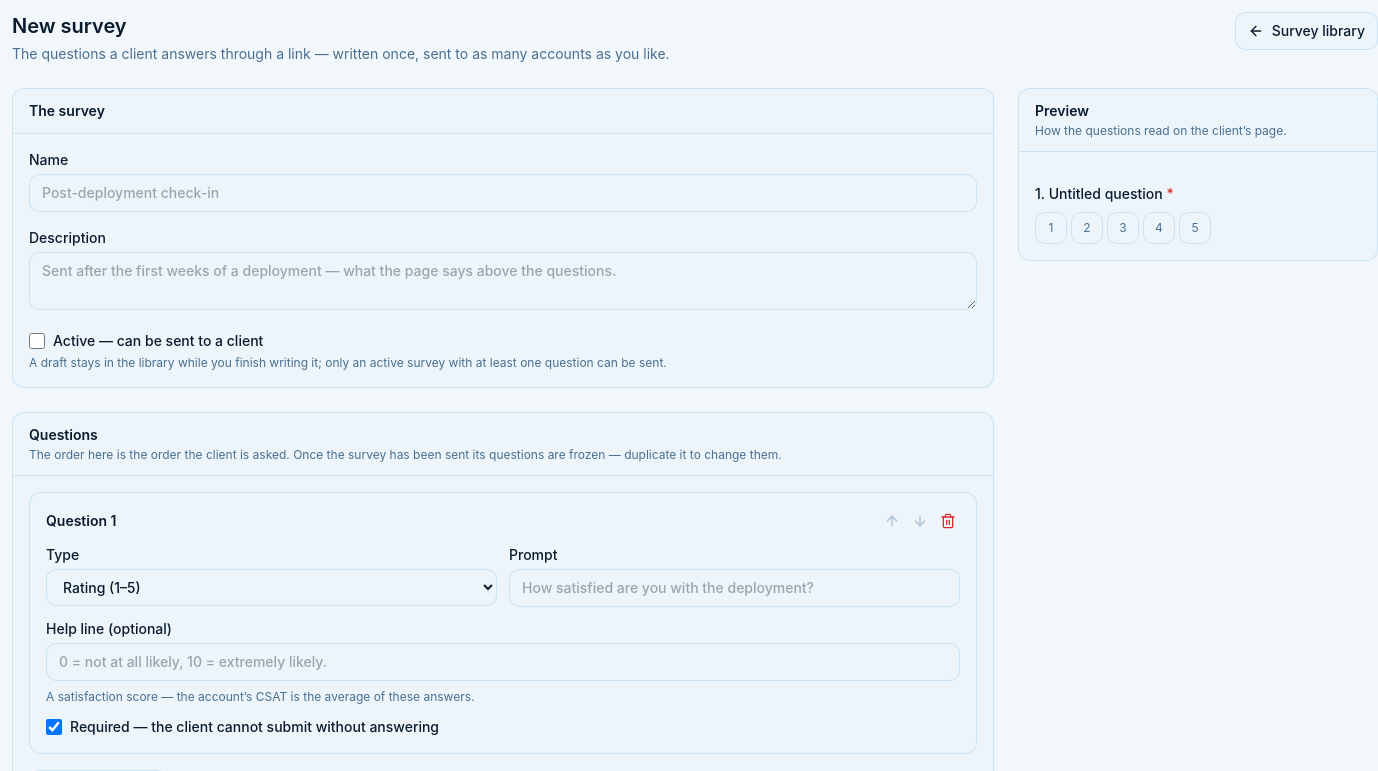
Test: Survey form › shows what the API refused rather than swallowing it
In the field labelled "Name": (503, 193) [29,174,977,212], type "Empty survey"
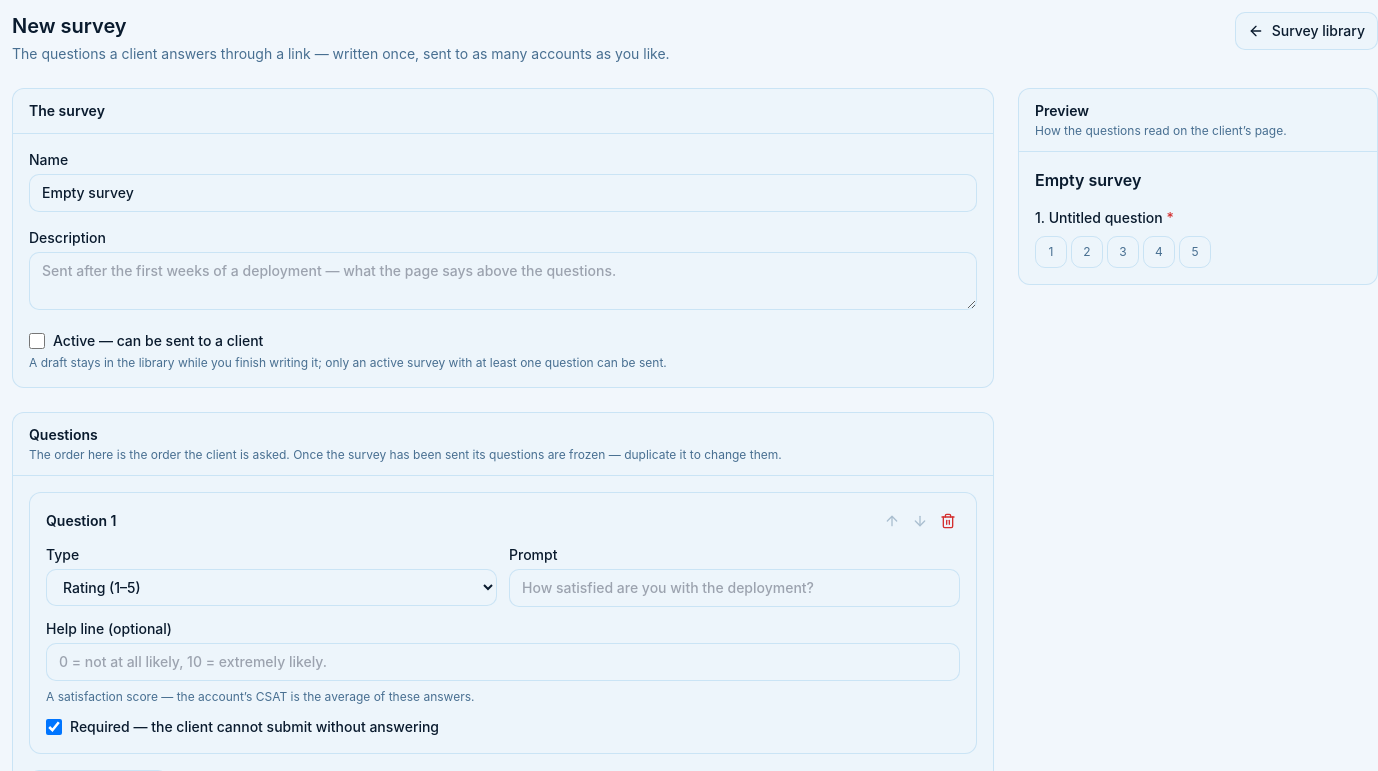
Click the checkbox labelled "Active — can be sent to a client": (37, 341) [29,333,45,349]
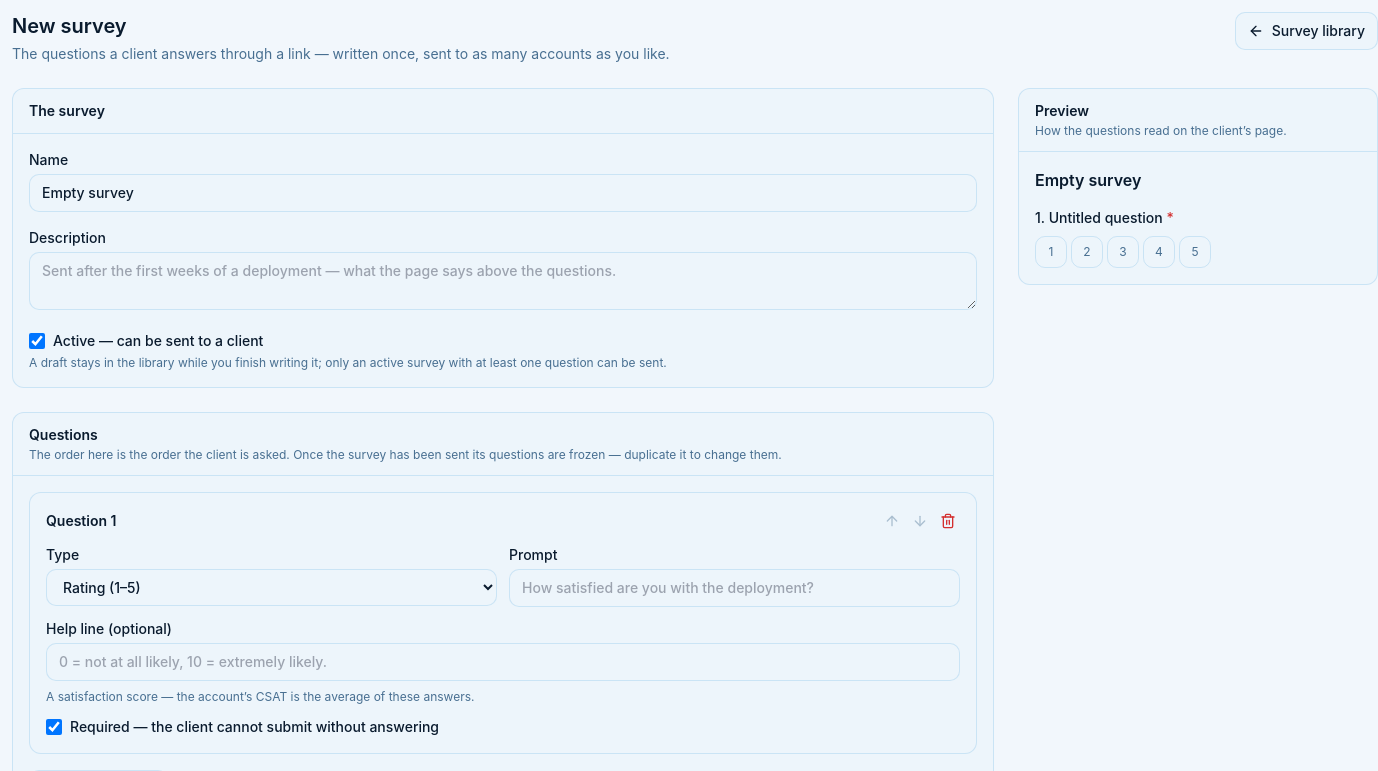
Click the button named "Remove question 1": (948, 521) [936,509,960,533]
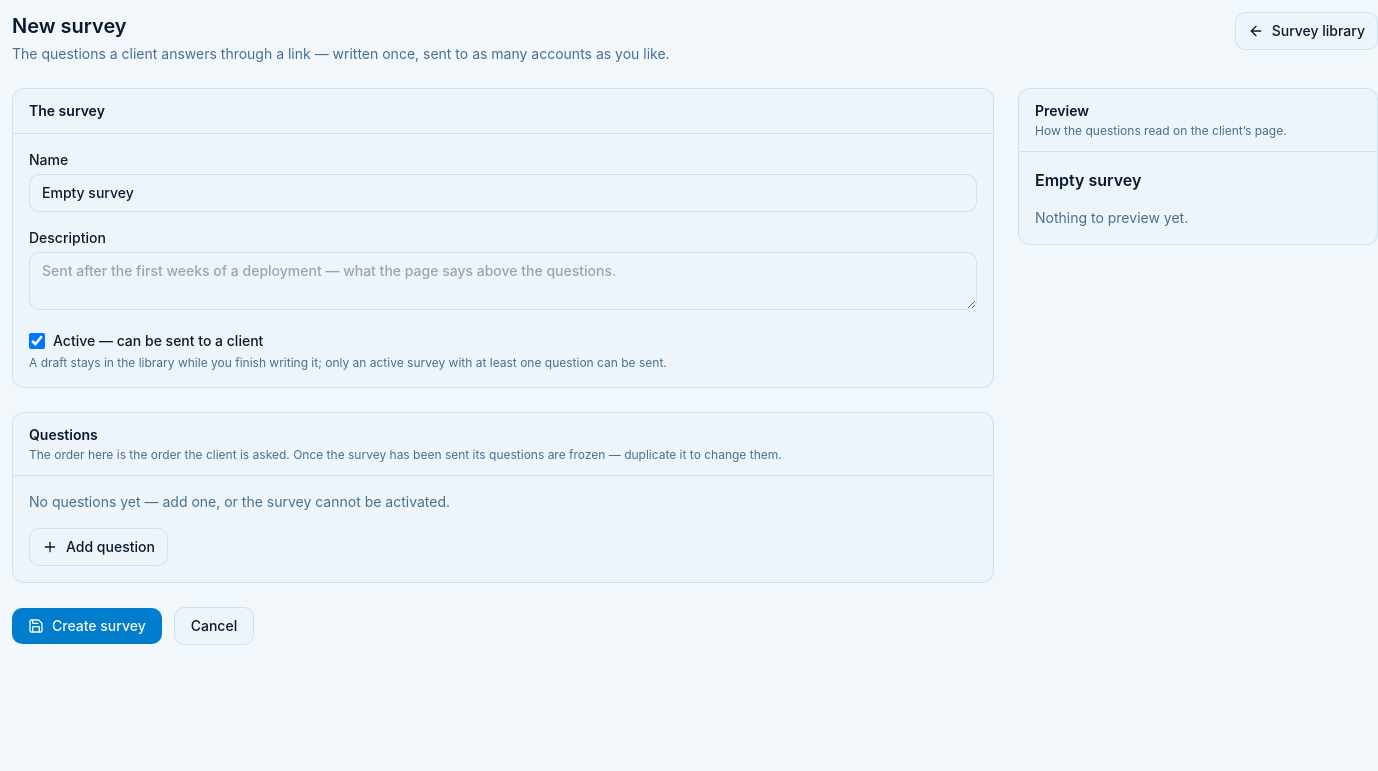
Click the button "Create survey": (87, 626) [12,608,162,644]
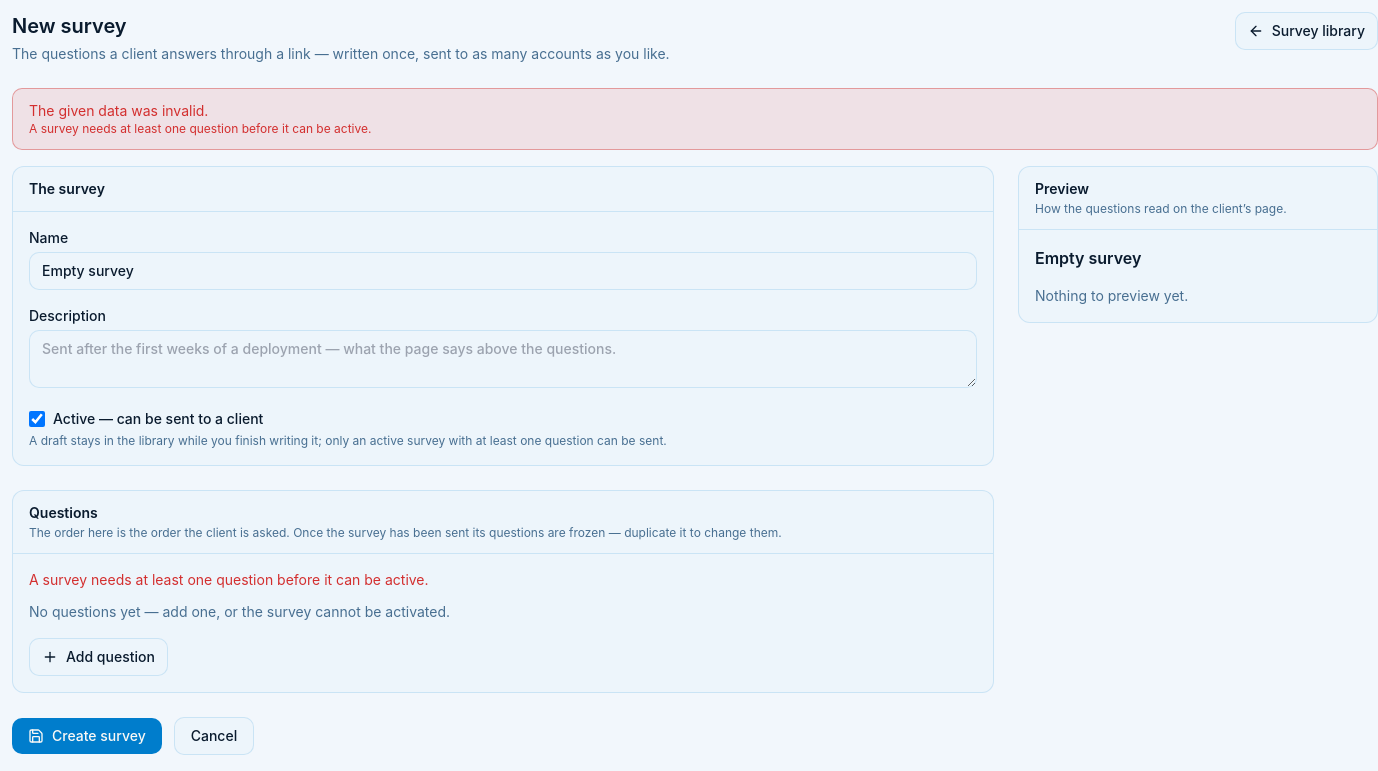
Expected: the text "The given data was invalid." is shown, [29,102,208,119]
Expected: the text "A survey needs at least one question before it can be active." below "The given data was invalid." is shown, [29,121,372,136]
